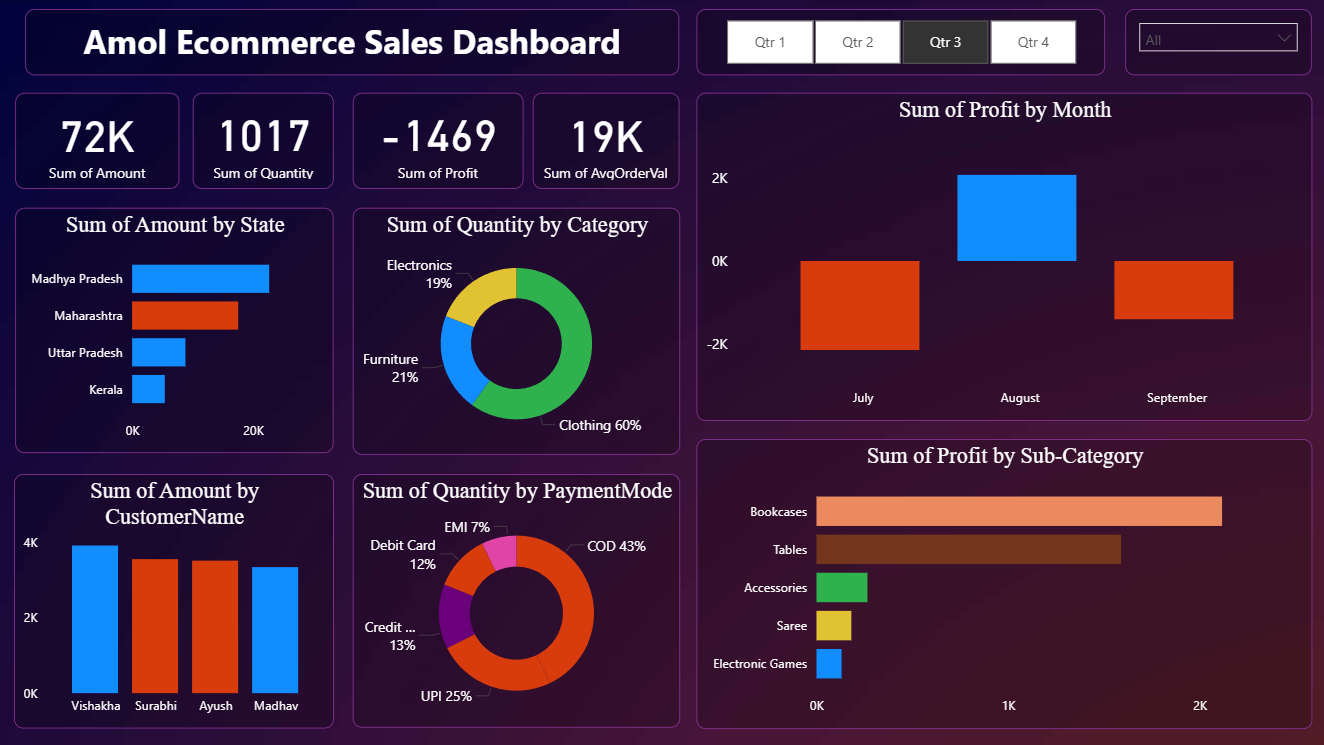

Layout of this report page (visuals, bound fields, positions):
{"tool":"powerbi","page":{"name":"Page 1","canvas":[1280,720],"ordinal":0},"visuals":[{"type":"textbox","box":[25.7,10,631.4,64.3],"z":0},{"type":"columnChart","fields":{"Category":["Orders.Order Date.Variation.Date Hierarchy.Month"],"Y":["Sum(Details.Profit)"]},"box":[672.9,90,594.3,317.1],"z":1000},{"type":"barChart","fields":{"Category":["Details.Sub-Category"],"Y":["Sum(Details.Profit)"]},"box":[672.9,424.3,594.3,280],"z":2001},{"type":"donutChart","fields":{"Category":["Details.Category"],"Y":["Sum(Details.Quantity)"]},"box":[341.2,201.2,316.2,238.8],"z":2002},{"type":"donutChart","fields":{"Y":["Sum(Details.Quantity)"],"Category":["Details.PaymentMode"]},"box":[341.2,458.8,316.2,245],"z":2003},{"type":"card","fields":{"Values":["Sum(Details.Amount)"]},"box":[15.7,90,158.6,92.9],"z":2004},{"type":"card","fields":{"Values":["Sum(Details.Quantity)"]},"box":[187.5,90,136.2,92.5],"z":2005},{"type":"card","fields":{"Values":["Sum(Details.Profit)"]},"box":[341.2,90,165,92.5],"z":2006},{"type":"card","fields":{"Values":["Sum(Details.AvgOrderVal)"]},"box":[515.7,90,141.4,92.9],"z":2007},{"type":"barChart","fields":{"Category":["Orders.State"],"Y":["Sum(Details.Amount)"]},"box":[15.7,201.4,307.1,237.1],"z":2008},{"type":"columnChart","fields":{"Category":["Orders.CustomerName"],"Y":["Sum(Details.Amount)"]},"box":[14.3,458.6,308.6,245.7],"z":2009},{"type":"slicer","fields":{"Values":["Orders.Order Date.Variation.Date Hierarchy.Quarter"]},"box":[672.9,10,394.3,64.3],"z":2010},{"type":"slicer","fields":{"Values":["Orders.State"]},"box":[1087.1,10,180,64.3],"z":2011}]}

Visuals, with their boxes in screenshot pixels (x1, y1, x2, y2), scaled from the page's 1280x720 canvas onto the 1324x745 screenshot:
textbox: 27, 10, 680, 77
columnChart - Orders.Order Date.Variation.Date Hierarchy.Month x Sum(Details.Profit): 696, 93, 1311, 421
barChart - Details.Sub-Category x Sum(Details.Profit): 696, 439, 1311, 729
donutChart - Details.Category x Sum(Details.Quantity): 353, 208, 680, 455
donutChart - Sum(Details.Quantity) x Details.PaymentMode: 353, 475, 680, 728
card - Sum(Details.Amount): 16, 93, 180, 189
card - Sum(Details.Quantity): 194, 93, 335, 189
card - Sum(Details.Profit): 353, 93, 524, 189
card - Sum(Details.AvgOrderVal): 533, 93, 680, 189
barChart - Orders.State x Sum(Details.Amount): 16, 208, 334, 454
columnChart - Orders.CustomerName x Sum(Details.Amount): 15, 475, 334, 729
slicer - Orders.Order Date.Variation.Date Hierarchy.Quarter: 696, 10, 1104, 77
slicer - Orders.State: 1124, 10, 1311, 77
